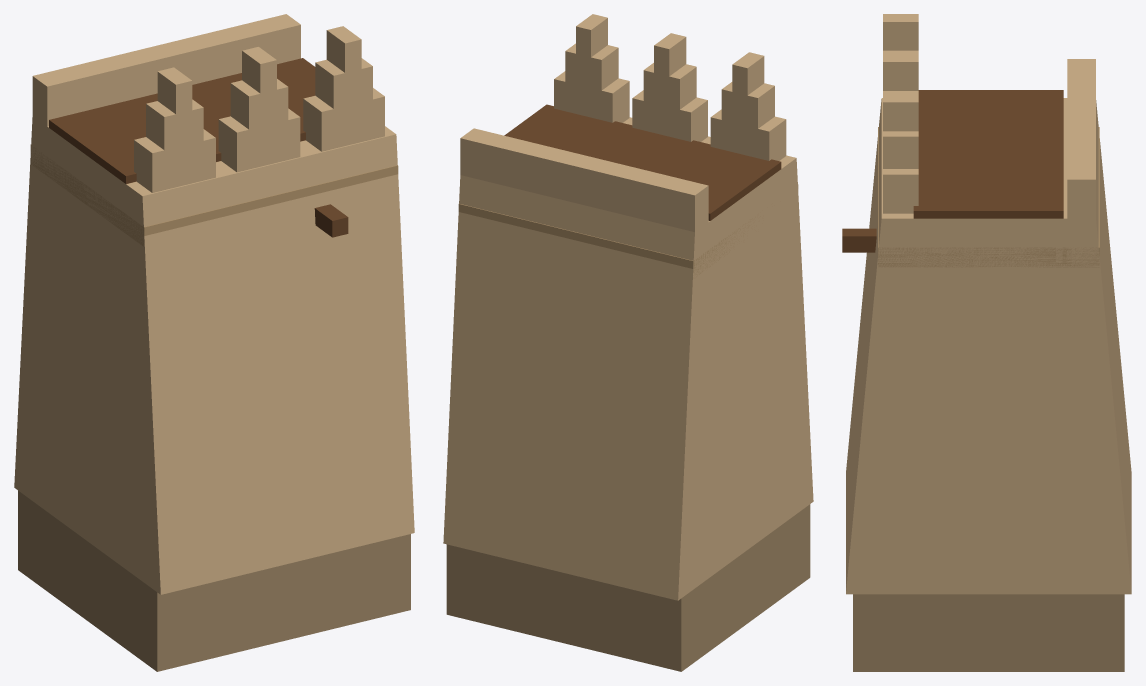
The model's file is wall.glb.
The picture shows the model from 3 angles, left to right: view 1: azimuth 30°, elevation 25°; view 2: azimuth 150°, elevation 25°; view 3: azimuth 270°, elevation 25°; orthographic projection. The views are drawn at different scales.
Parts seen in each view (by area): view 1: Wall; view 2: Wall; view 3: Wall.
Boxes of the visible parts, bbox=[...] form: Wall: bbox=[14, 14, 414, 671]; Wall: bbox=[443, 14, 813, 671]; Wall: bbox=[842, 14, 1131, 671].
Bounding box in the file's own units: 4 × 8.55 × 4.05.
